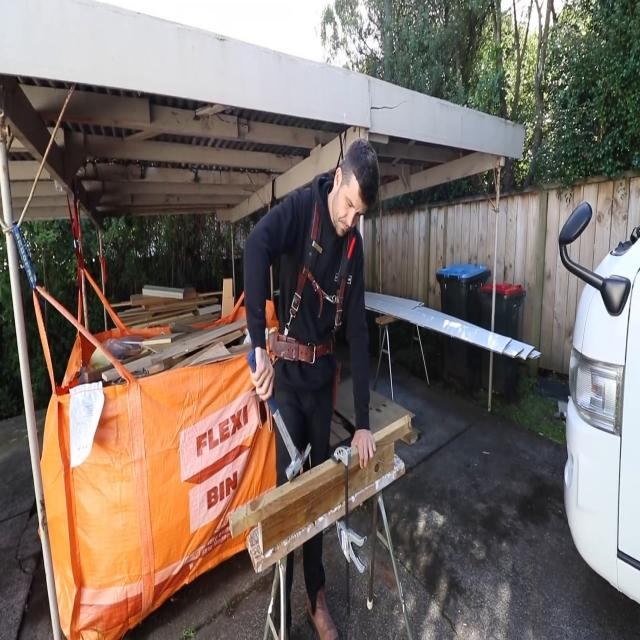hammer: (245, 345, 313, 481)
